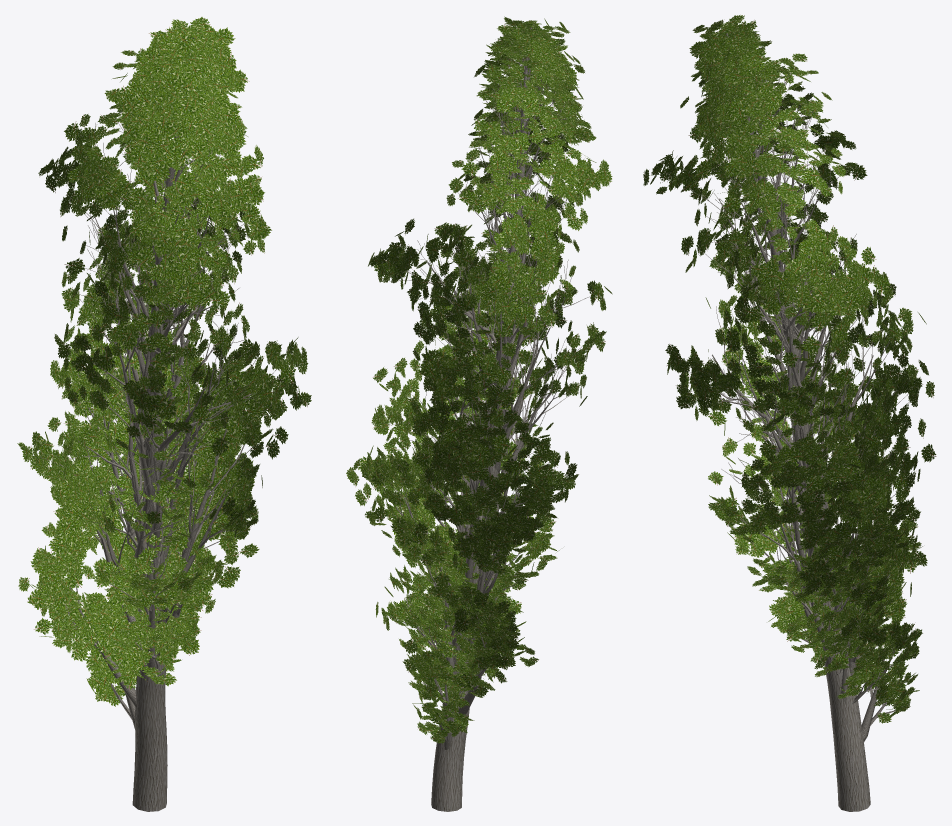
The model's file is tree-poplar.glb.
3 renders of one model, left to right at view 1: azimuth 30°, elevation 25°; view 2: azimuth 150°, elevation 25°; view 3: azimuth 270°, elevation 25°, orthographic. The views are drawn at different scales.
Visible parts, largest first — view 1: leaves, bark; view 2: leaves, bark; view 3: leaves, bark.
Part boxes in pixels (bbox=[...]): leaves: bbox=[17, 17, 311, 706]; bark: bbox=[38, 38, 288, 811]; leaves: bbox=[346, 16, 612, 743]; bark: bbox=[371, 27, 595, 811]; leaves: bbox=[643, 15, 936, 723]; bark: bbox=[664, 33, 918, 811].
Size of the model in its own units: 7.23 by 22.1 by 7.62.
Materials: 2 (2 with a texture image).
